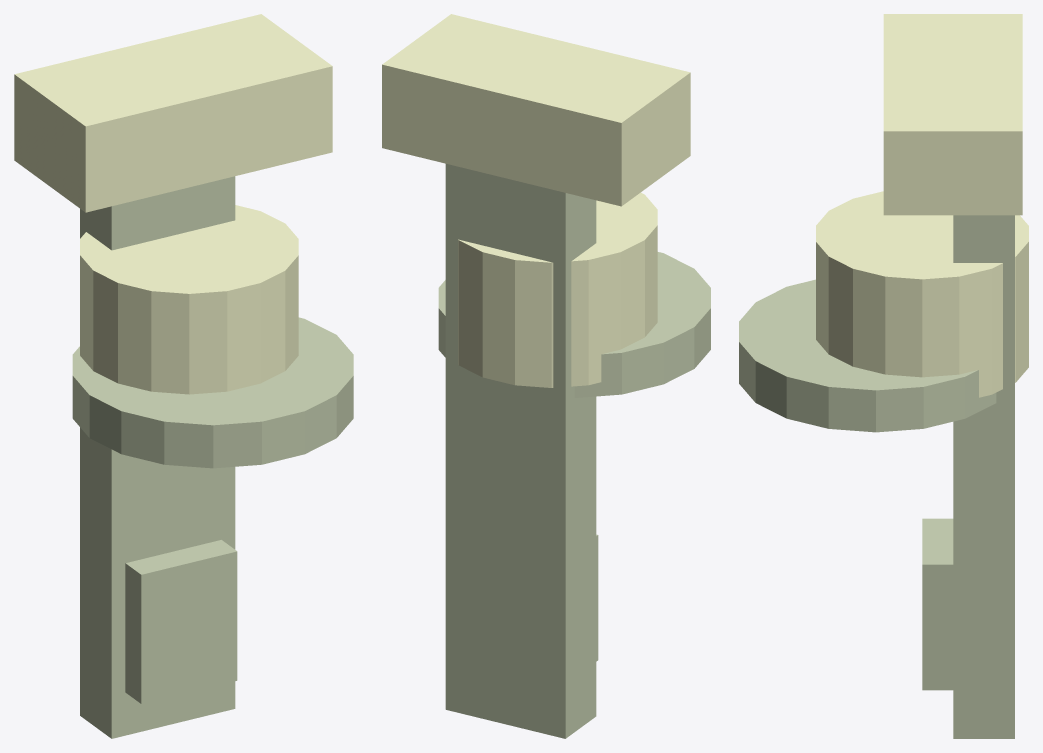
The model's file is furniture_rail_signal_bell_housing.glb.
3 views of the same model, side by side, from view 1: azimuth 30°, elevation 25°; view 2: azimuth 150°, elevation 25°; view 3: azimuth 270°, elevation 25° (orthographic). The views are drawn at different scales.
Parts seen in each view (by area): view 1: hood, bell_can, mount_plate, bell_mouth, junction_stub; view 2: mount_plate, hood, bell_can, junction_stub, bell_mouth; view 3: bell_can, hood, mount_plate, bell_mouth, junction_stub.
Boxes of the visible parts, x1,y1,x2,y2 form: hood: (14, 14, 332, 212); bell_can: (80, 205, 298, 394); mount_plate: (80, 176, 235, 738); bell_mouth: (72, 317, 353, 468); junction_stub: (125, 540, 237, 703); mount_plate: (445, 164, 596, 738); hood: (382, 14, 690, 206); bell_can: (458, 192, 657, 387); junction_stub: (459, 534, 598, 693); bell_mouth: (438, 252, 710, 397); bell_can: (816, 191, 1028, 397); hood: (883, 14, 1022, 215); mount_plate: (953, 215, 1014, 738); bell_mouth: (739, 279, 996, 432); junction_stub: (922, 518, 953, 690).
Size of the model in its own units: 0.36 by 0.91 by 0.3751.
